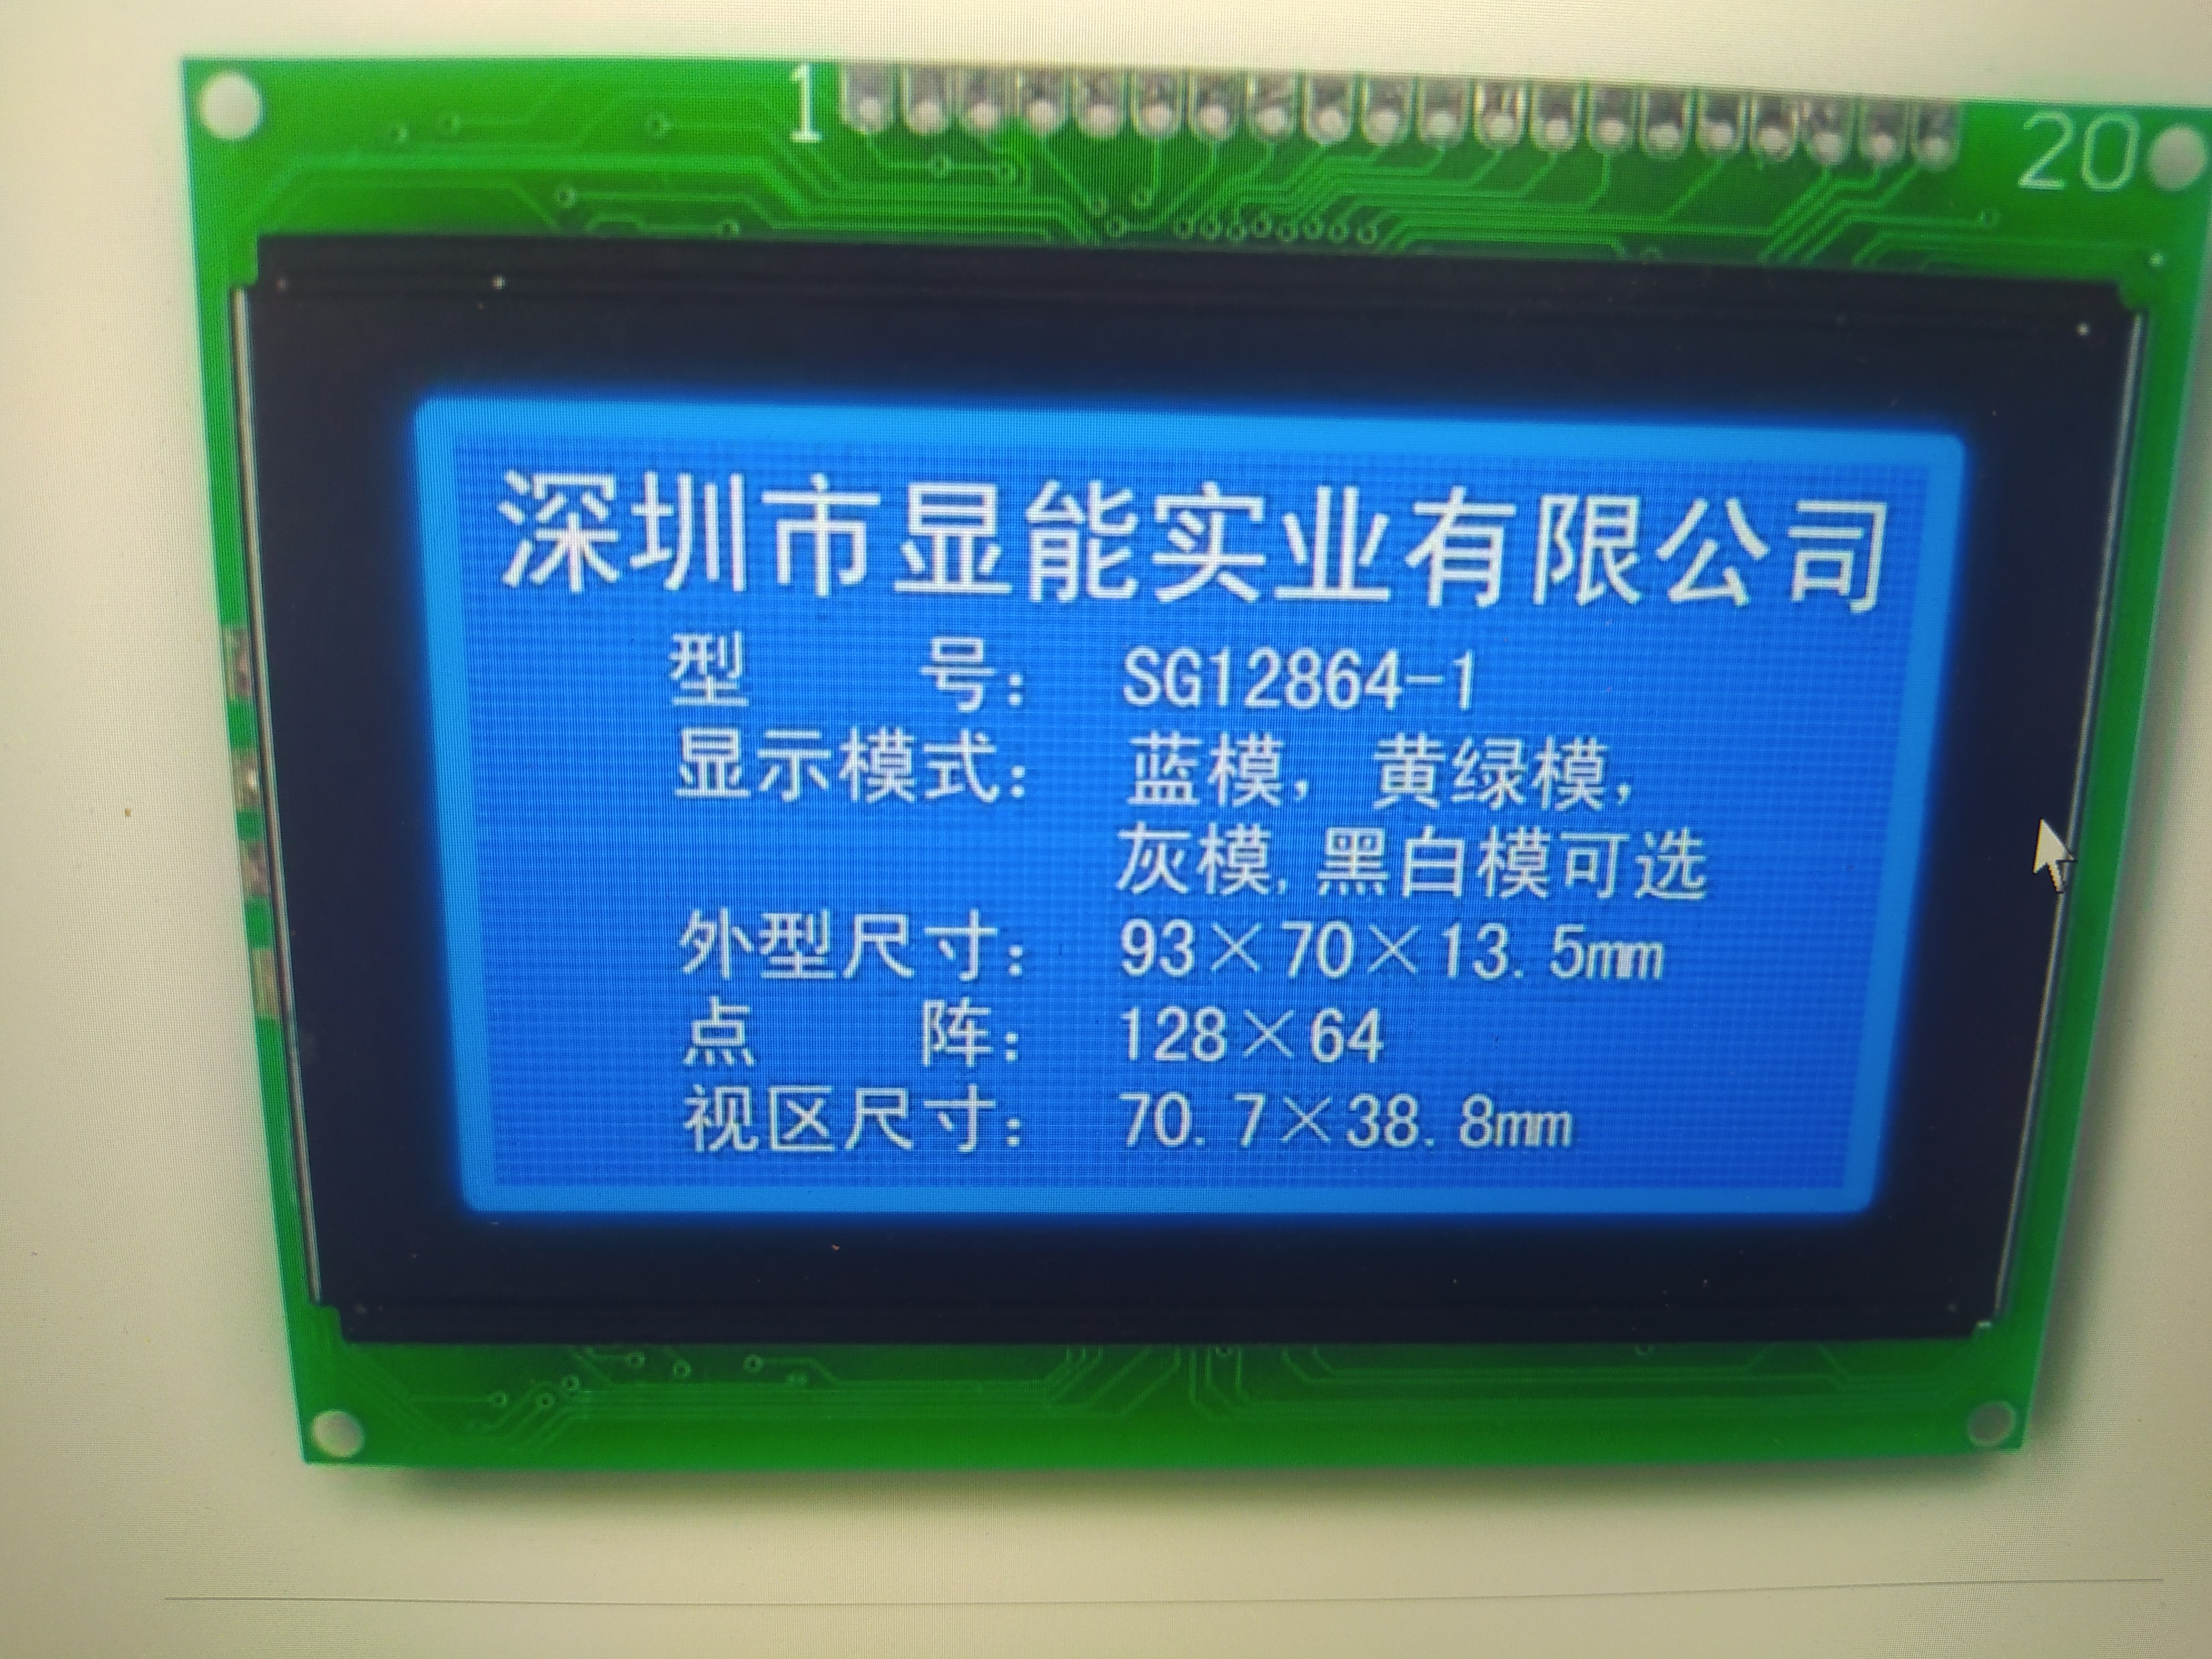.: (1191, 1091, 1216, 1157), (1514, 911, 1533, 990), (1421, 1087, 1439, 1154)
0: (2076, 108, 2144, 202), (1153, 1086, 1197, 1155), (1315, 922, 1364, 981)
1: (766, 59, 836, 155), (1433, 915, 1468, 986), (1453, 648, 1489, 714), (1118, 997, 1150, 1065), (1211, 647, 1242, 713)
2: (2005, 108, 2076, 204), (1148, 997, 1191, 1068), (1244, 645, 1284, 711)
3: (1339, 1087, 1385, 1154), (1472, 913, 1512, 985), (1158, 918, 1198, 978)
4: (1350, 1004, 1395, 1068), (1366, 645, 1402, 714)
5: (1547, 915, 1587, 988)
6: (1310, 1000, 1348, 1077), (1325, 647, 1364, 716)
7: (1224, 1087, 1271, 1155), (1275, 918, 1310, 990), (1120, 1087, 1153, 1150)
8: (1190, 995, 1230, 1072), (1282, 645, 1322, 709), (1383, 1087, 1420, 1154), (1460, 1087, 1494, 1152)
9: (1116, 918, 1158, 976)
